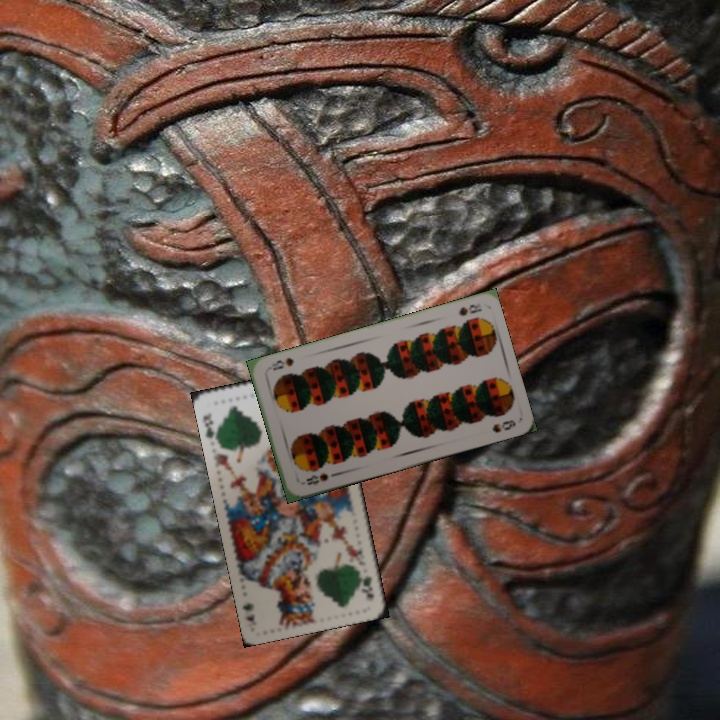GK: (354, 565, 377, 603), (199, 410, 221, 444)
S8: (453, 299, 484, 318), (302, 469, 331, 488)
